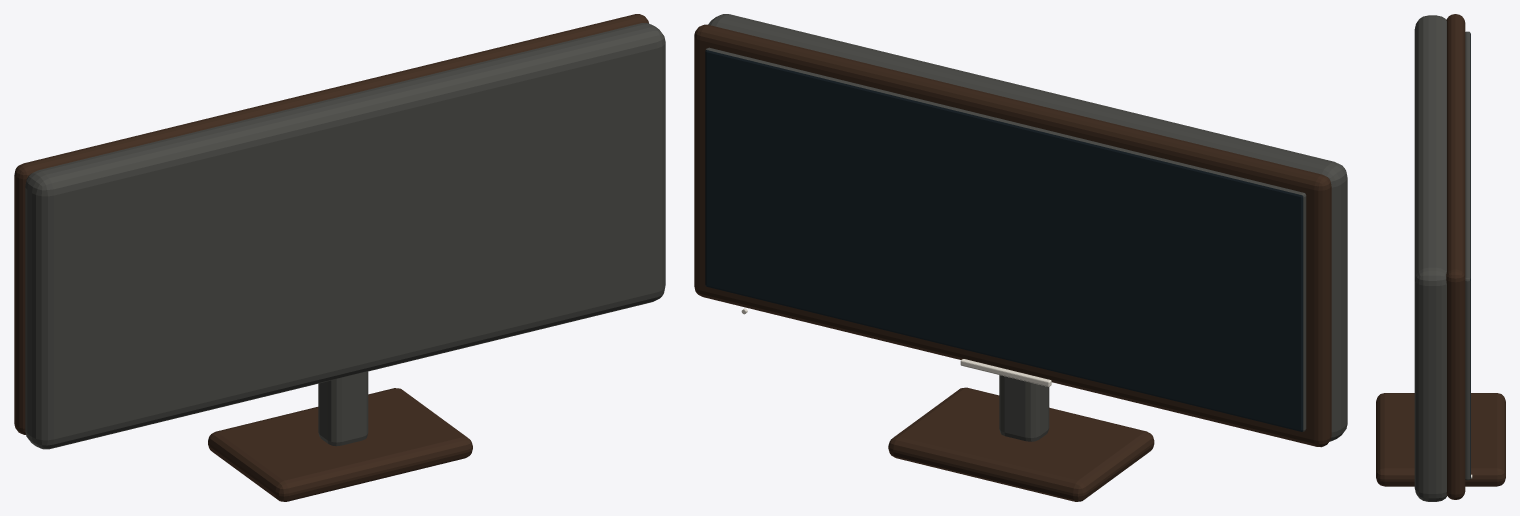
File: monitor_27.fbx
3 views of the same model, side by side, from view 1: azimuth 30°, elevation 25°; view 2: azimuth 150°, elevation 25°; view 3: azimuth 270°, elevation 25° (orthographic). The views are drawn at different scales.
Visible parts, largest first — view 1: monitor_27; view 2: monitor_27; view 3: monitor_27.
Boxes of the visible parts, box(x1,y1,x2,y2) form: monitor_27: box(14, 14, 665, 501); monitor_27: box(694, 14, 1347, 501); monitor_27: box(1376, 14, 1505, 501).
Size of the model in its own units: 1.03 by 0.56 by 0.215.
